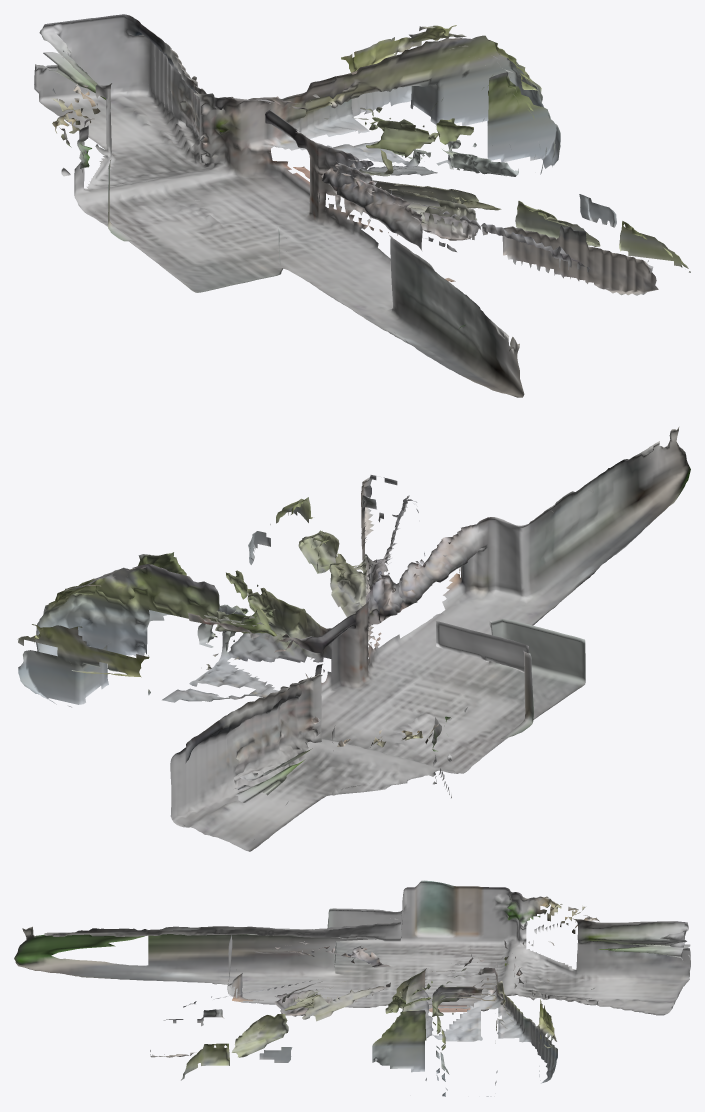
File: collider.glb
3 views of the same model, one above another, from view 1: azimuth 30°, elevation 25°; view 2: azimuth 150°, elevation 25°; view 3: azimuth 270°, elevation 25° (orthographic). The views are drawn at different scales.
Visible parts, largest first — view 1: world; view 2: world; view 3: world.
Part boxes in pixels (left/top/right/bottom): world: left=34, top=14, right=690, bottom=397; world: left=17, top=426, right=690, bottom=851; world: left=14, top=880, right=690, bottom=1096.
Bounding box in the file's own units: 8.85 × 1.91 × 15.27.
